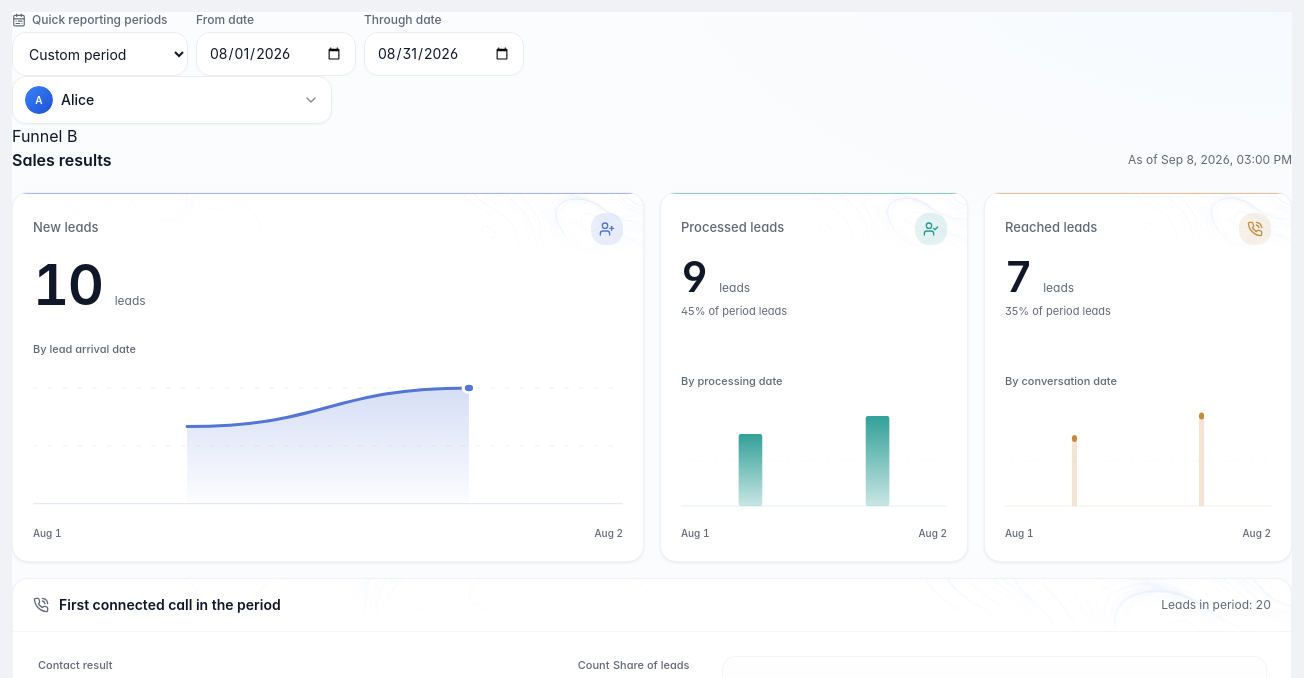
Scenario: factual sales report › keeps invalid period drafts out of requests
Clear the date field labelled "From date": (276, 54) [196, 32, 356, 76]
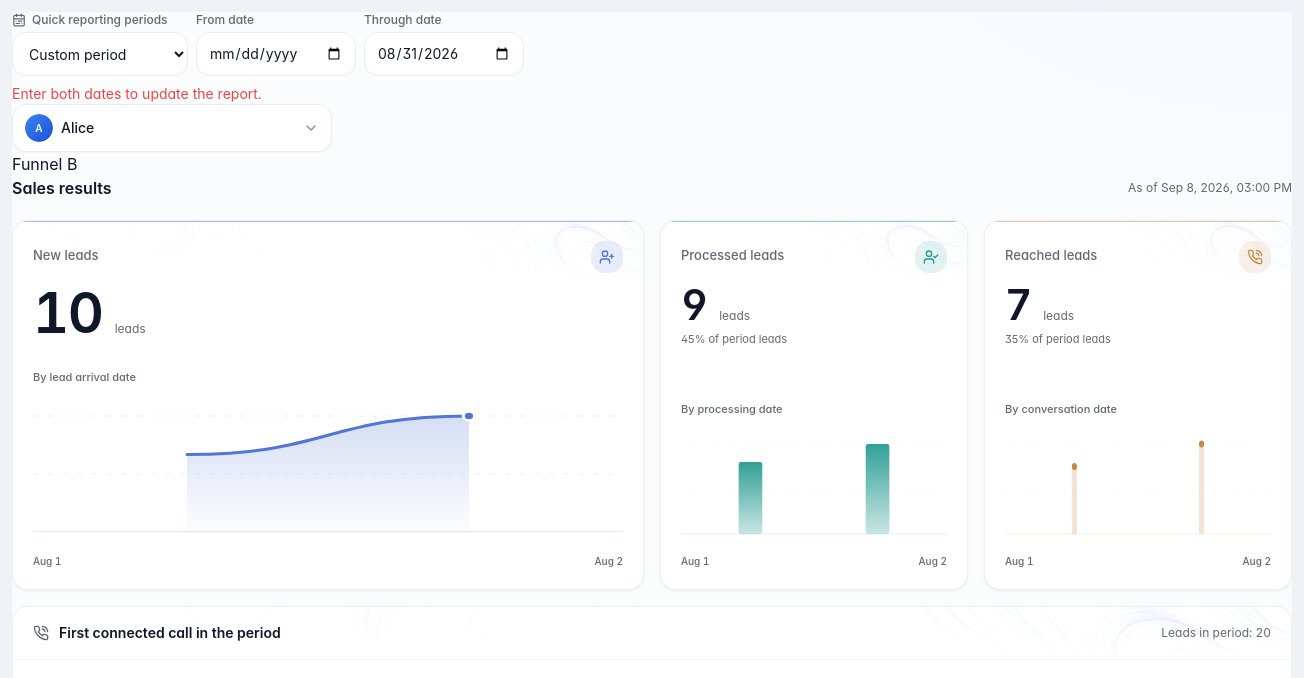
Expected: the message reads "Enter both dates to update the report.", [12, 85, 262, 102]
